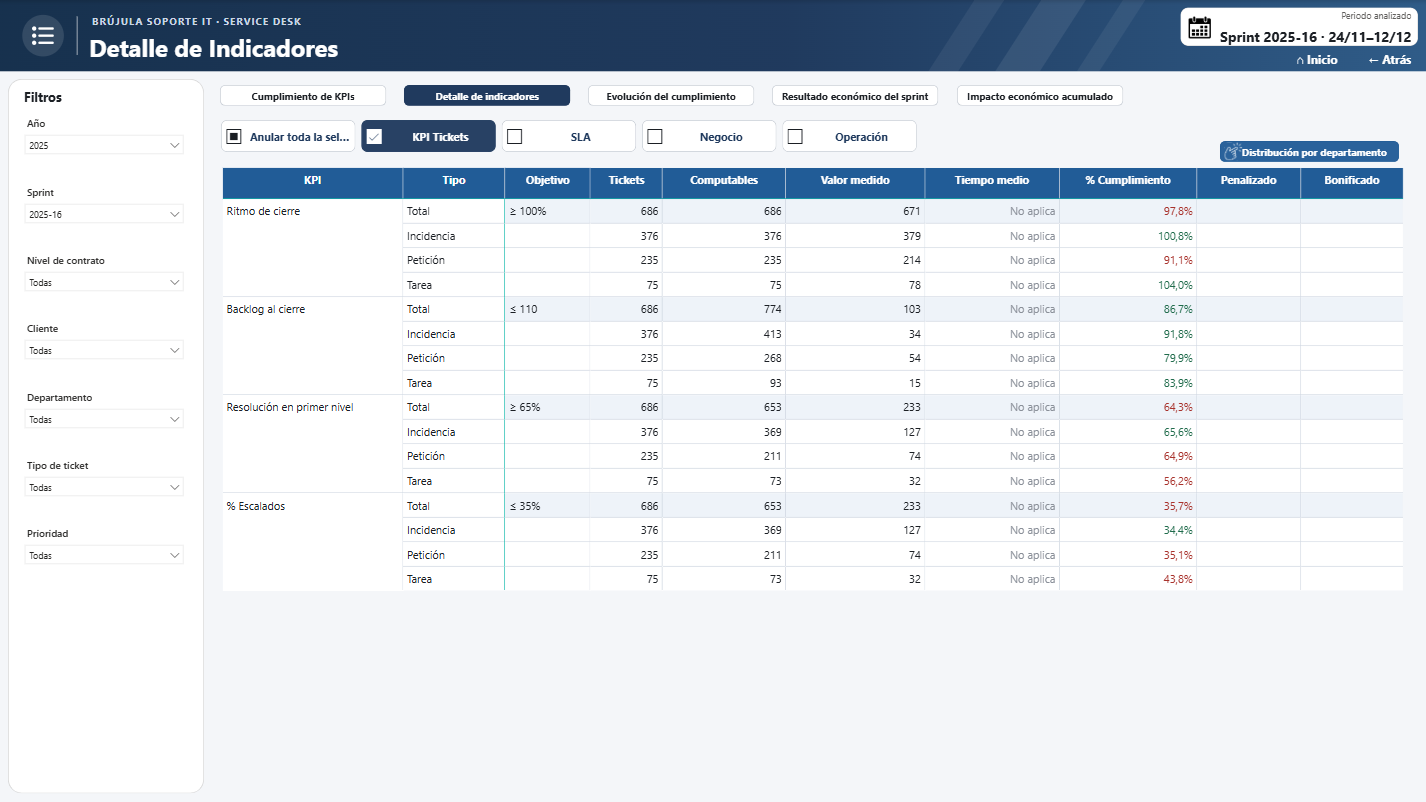

This screenshot's page, from the dashboard's own definition file:
{"tool":"powerbi","page":{"name":"Detalle de indicadores","canvas":[1920,1080],"ordinal":2},"visuals":[{"type":"pivotTable","fields":{"Rows":["Objetivos KPI.KPI","Tipo detalle.Tipo"],"Values":["Medidas.Objetivo detalle KPI","Medidas.Tickets detalle KPI","Medidas.Tickets que computan KPI","Medidas.Tickets incumplidos KPI","Medidas.Tiempo medio detalle","Medidas.Valor KPI detalle","Medidas.Penalizado KPI €","Medidas.Bonificado KPI €"]},"box":[288,214,1616,846],"z":0},{"type":"shape","box":[10.9,106,263.9,962],"z":1000},{"type":"textbox","box":[32,118,216,32],"z":2000},{"type":"slicer","fields":{"Values":["Sprint.Año"]},"box":[28,158,224,80],"z":3000},{"type":"slicer","fields":{"Values":["Sprint.Sprint"]},"box":[28,250,224,80],"z":4000},{"type":"slicer","fields":{"Values":["Cliente.Nivel de contrato"]},"box":[28,342,224,80],"z":5000},{"type":"slicer","fields":{"Values":["Cliente.Cliente"]},"box":[28,434,224,80],"z":6000},{"type":"slicer","fields":{"Values":["Departamento.Departamento"]},"box":[28,526,224,80],"z":7000},{"type":"slicer","fields":{"Values":["Política SLA.Tipo"]},"box":[28,618,224,80],"z":8000},{"type":"slicer","fields":{"Values":["Política SLA.Prioridad"]},"box":[28,710,224,80],"z":9000},{"type":"textbox","box":[120,42,1000,44],"z":10000},{"type":"advancedSlicerVisual","fields":{"Values":["Parámetro KPI.Botón"]},"box":[297,162,940,43],"z":11000},{"type":"actionButton","box":[288,106,240,44],"z":12000},{"type":"actionButton","box":[536,106,240,44],"z":13000},{"type":"actionButton","box":[784,106,240,44],"z":14000},{"type":"actionButton","box":[1032,106,240,44],"z":15000},{"type":"actionButton","box":[1280,106,240,44],"z":16000},{"type":"actionButton","box":[1634.8,181.8,257.2,44.4],"z":18000},{"type":"cardVisual","fields":{"Data":["Medidas.Periodo seleccionado"]},"box":[1580,0,340,72],"z":18001},{"type":"actionButton","box":[1823,56.6,97,44.4],"z":18002},{"type":"actionButton","box":[1723.7,56.6,99.7,44.4],"z":18003}]}

Visuals, with their boxes in screenshot pixels (x1, y1, x2, y2), scaled from the page's 1920x1080 canvas onto the 1426x802 screenshot:
pivotTable - Objetivos KPI.KPI x Tipo detalle.Tipo: 214,159,1414,787
shape: 8,79,204,793
textbox: 24,88,184,111
slicer - Sprint.Año: 21,117,187,177
slicer - Sprint.Sprint: 21,186,187,245
slicer - Cliente.Nivel de contrato: 21,254,187,313
slicer - Cliente.Cliente: 21,322,187,382
slicer - Departamento.Departamento: 21,391,187,450
slicer - Política SLA.Tipo: 21,459,187,518
slicer - Política SLA.Prioridad: 21,527,187,587
textbox: 89,31,832,64
advancedSlicerVisual - Parámetro KPI.Botón: 221,120,919,152
actionButton: 214,79,392,111
actionButton: 398,79,576,111
actionButton: 582,79,761,111
actionButton: 766,79,945,111
actionButton: 951,79,1129,111
actionButton: 1214,135,1405,168
cardVisual - Medidas.Periodo seleccionado: 1173,0,1425,53
actionButton: 1354,42,1425,75
actionButton: 1280,42,1354,75
